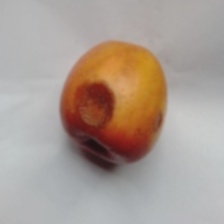apple: (35, 63, 204, 199)
